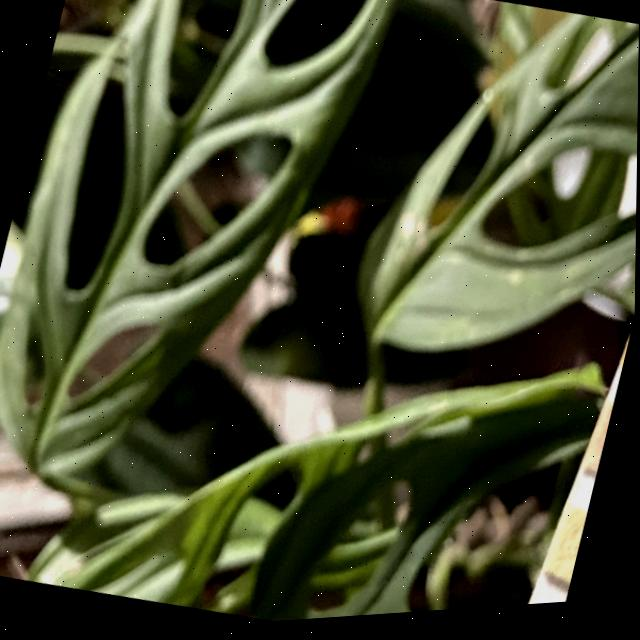Protein: (550, 520, 588, 585)
pH: (591, 418, 613, 475)
